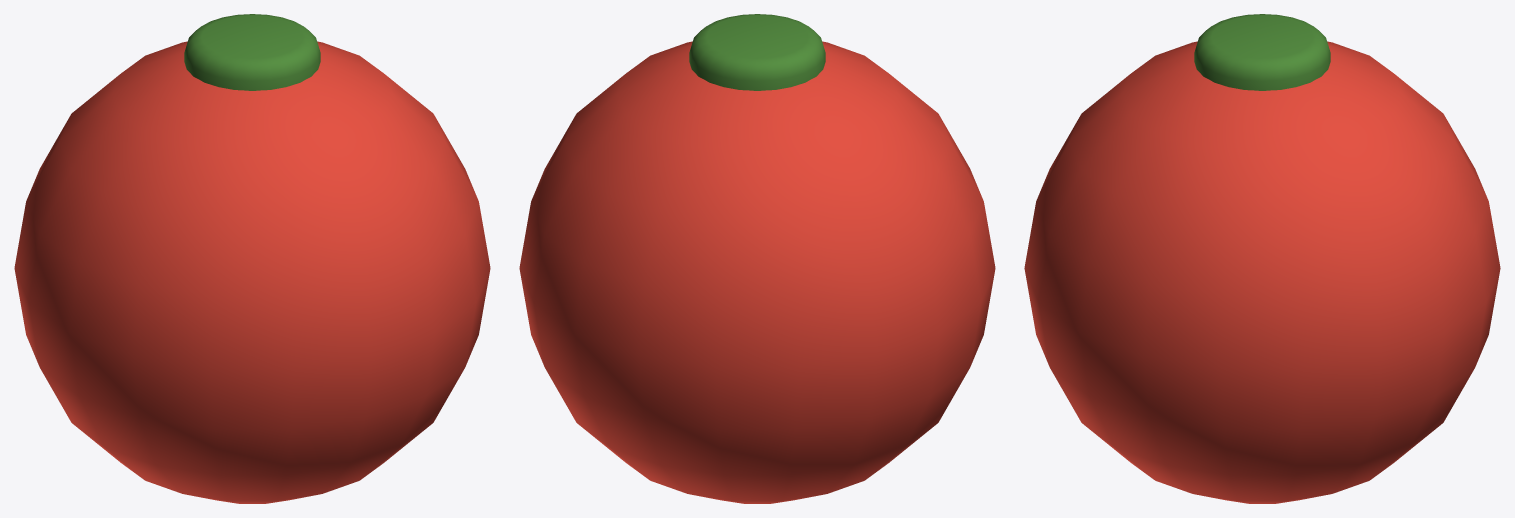
File: food_tomato.glb
3 renders of one model, left to right at view 1: azimuth 30°, elevation 25°; view 2: azimuth 150°, elevation 25°; view 3: azimuth 270°, elevation 25°, orthographic.
Visible parts, largest first — view 1: tomato; view 2: tomato; view 3: tomato.
Boxes of the visible parts, <box> form: tomato: <box>14,14,490,503</box>; tomato: <box>519,14,995,503</box>; tomato: <box>1024,14,1500,503</box>.
Size of the model in its own units: 0.2757 by 0.29 by 0.28.
